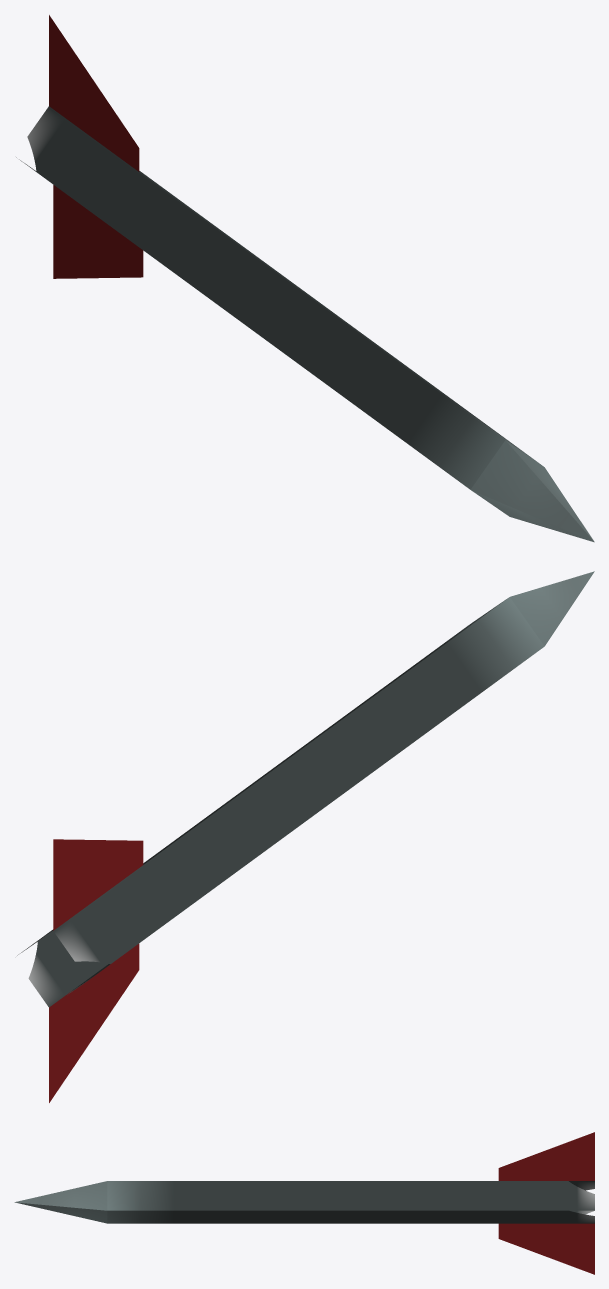
File: crossbow arrow.fbx
3 renders of one model, top to bottom at view 1: azimuth 30°, elevation 25°; view 2: azimuth 150°, elevation 25°; view 3: azimuth 270°, elevation 25°, orthographic. The views are drawn at different scales.
Parts seen in each view (by area): view 1: crossbow arrow; view 2: crossbow arrow; view 3: crossbow arrow.
Boxes of the visible parts, x1,y1,x2,y2 form: crossbow arrow: (16, 15, 594, 542); crossbow arrow: (17, 571, 594, 1102); crossbow arrow: (14, 1132, 594, 1274).
Size of the model in its own units: 15.78 by 53.89 by 200.
1 material, 1 textured.
